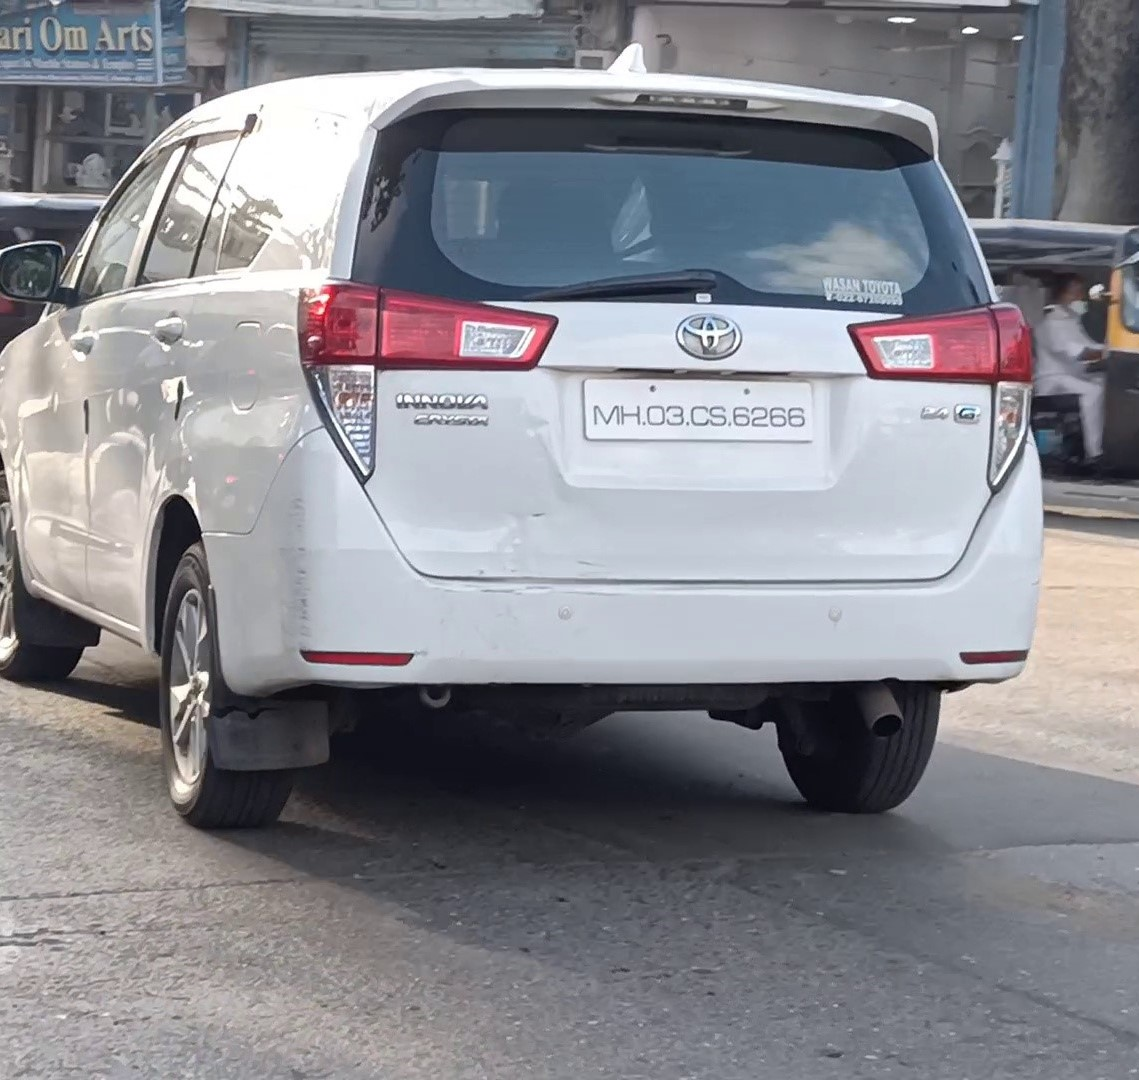MH03CS6266: (580, 375, 815, 446)
